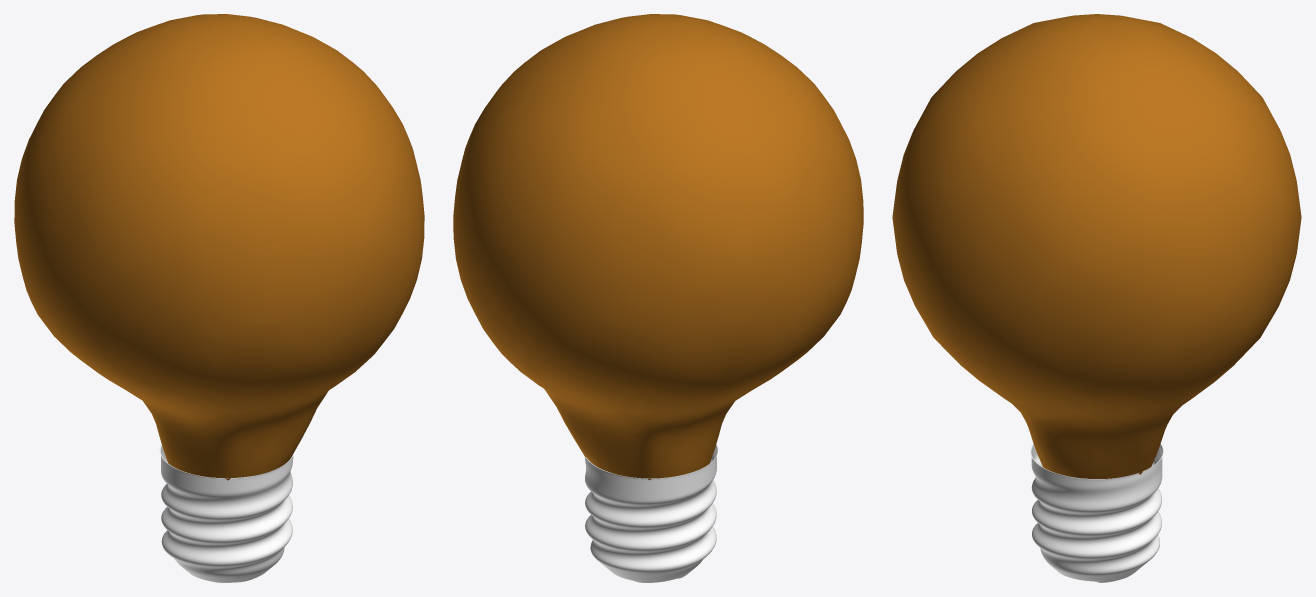
File: bulb.glb
3 renders of one model, left to right at view 1: azimuth 30°, elevation 25°; view 2: azimuth 150°, elevation 25°; view 3: azimuth 270°, elevation 25°, orthographic.
Visible parts, largest first — view 1: Cylinder.005; view 2: Cylinder.005; view 3: Cylinder.005.
Part boxes in pixels (bbox=[...]): Cylinder.005: bbox=[14, 14, 424, 582]; Cylinder.005: bbox=[453, 14, 863, 582]; Cylinder.005: bbox=[892, 14, 1301, 582].
Bounding box in the file's own units: 6.34 × 9.15 × 6.39.
